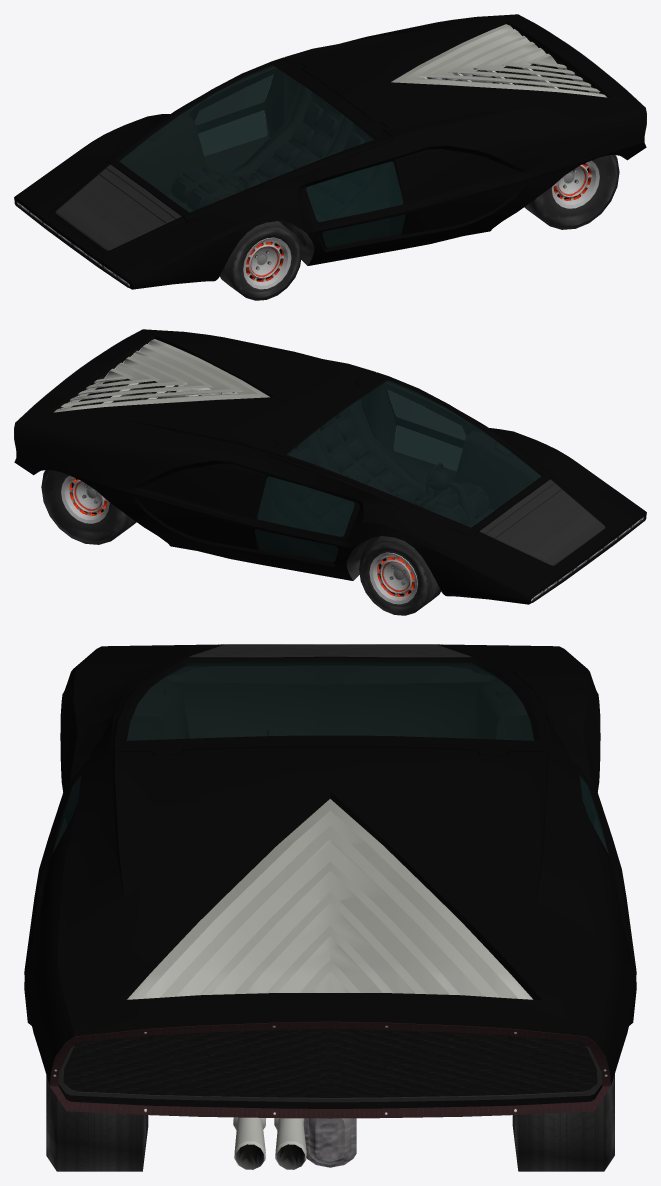
Rendered from wedge-concept-car.glb.
The picture shows the model from 3 angles, top to bottom: view 1: azimuth 30°, elevation 25°; view 2: azimuth 150°, elevation 25°; view 3: azimuth 270°, elevation 25°; orthographic projection. The views are drawn at different scales.
Visible parts, largest first — view 1: bodyshel, Object001_ZEROPR_ucb_interior_0, door_glass, bodyshell_glass, hood_ZEROPR_ucb_bottom_0, bodypanel, door, tire_ZEROPR_tire_0, tire_rear_ZEROPR_tire_0, wheel_front_left_ZEROPR_rim_0, wheel_rear_left_ZEROPR_rim_0, bodyshell_bottom; view 2: bodyshel, Object001_ZEROPR_ucb_interior_0, door_glass, bodyshell_glass, hood_ZEROPR_ucb_bottom_0, bodypanel, door, tire001_ZEROPR_tire_0, tire_rear001_ZEROPR_tire_0, wheel_front_left001_ZEROPR_rim_0, wheel_rear_left001_ZEROPR_rim_0, bodyshell_bottom; view 3: bodyshel, hood_ZEROPR_ucb_bottom_0, bodyshell_grill, door_glass, Object001_ZEROPR_ucb_interior_0, door, brakelights_ZEROPR_brake_lights_0, tire_rear_ZEROPR_tire_0, tire_rear001_ZEROPR_tire_0, bodypanel, bodyshell_bottom, exhaust (+2 smaller).
Boxes of the visible parts, x1,y1,x2,y2 form: bodyshel: (14,14,646,289); Object001_ZEROPR_ucb_interior_0: (120,66,405,246); door_glass: (119,65,373,212); bodyshell_glass: (195,75,405,246); hood_ZEROPR_ucb_bottom_0: (391,24,606,97); bodypanel: (55,164,181,250); door: (105,57,393,222); tire_ZEROPR_tire_0: (219,221,301,300); tire_rear_ZEROPR_tire_0: (524,155,619,229); wheel_front_left_ZEROPR_rim_0: (243,237,291,289); wheel_rear_left_ZEROPR_rim_0: (551,160,599,208); bodyshell_bottom: (278,35,625,265); bodyshel: (14,329,646,604); Object001_ZEROPR_ucb_interior_0: (255,381,540,561); door_glass: (287,380,541,527); bodyshell_glass: (255,390,465,561); hood_ZEROPR_ucb_bottom_0: (54,339,269,412); bodypanel: (479,479,605,565); door: (267,372,555,537); tire001_ZEROPR_tire_0: (359,536,441,615); tire_rear001_ZEROPR_tire_0: (41,470,136,544); wheel_front_left001_ZEROPR_rim_0: (369,552,417,604); wheel_rear_left001_ZEROPR_rim_0: (61,475,109,523); bodyshell_bottom: (35,350,382,580); bodyshel: (24,644,636,1108); hood_ZEROPR_ucb_bottom_0: (127,799,532,999); bodyshell_grill: (63,1029,597,1097); door_glass: (126,662,534,740); Object001_ZEROPR_ucb_interior_0: (53,665,607,851); door: (110,656,550,757); brakelights_ZEROPR_brake_lights_0: (49,1021,611,1118); tire_rear_ZEROPR_tire_0: (46,1075,148,1171); tire_rear001_ZEROPR_tire_0: (512,1074,614,1171); bodypanel: (188,644,472,657); bodyshell_bottom: (58,733,602,1102); exhaust: (233,1117,306,1169).
Bounding box in the file's own units: 1 × 0.2358 × 0.5133.
11 materials, 9 textured.
